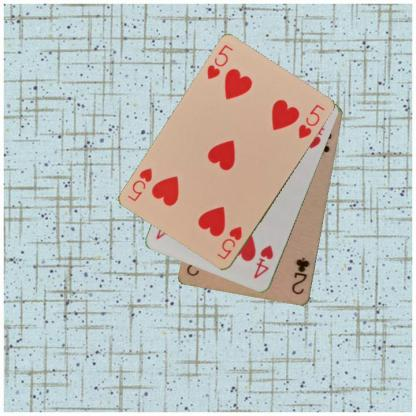2c: (289, 255, 311, 296)
4h: (251, 243, 275, 280)
5h: (204, 42, 235, 82), (214, 224, 244, 262)
